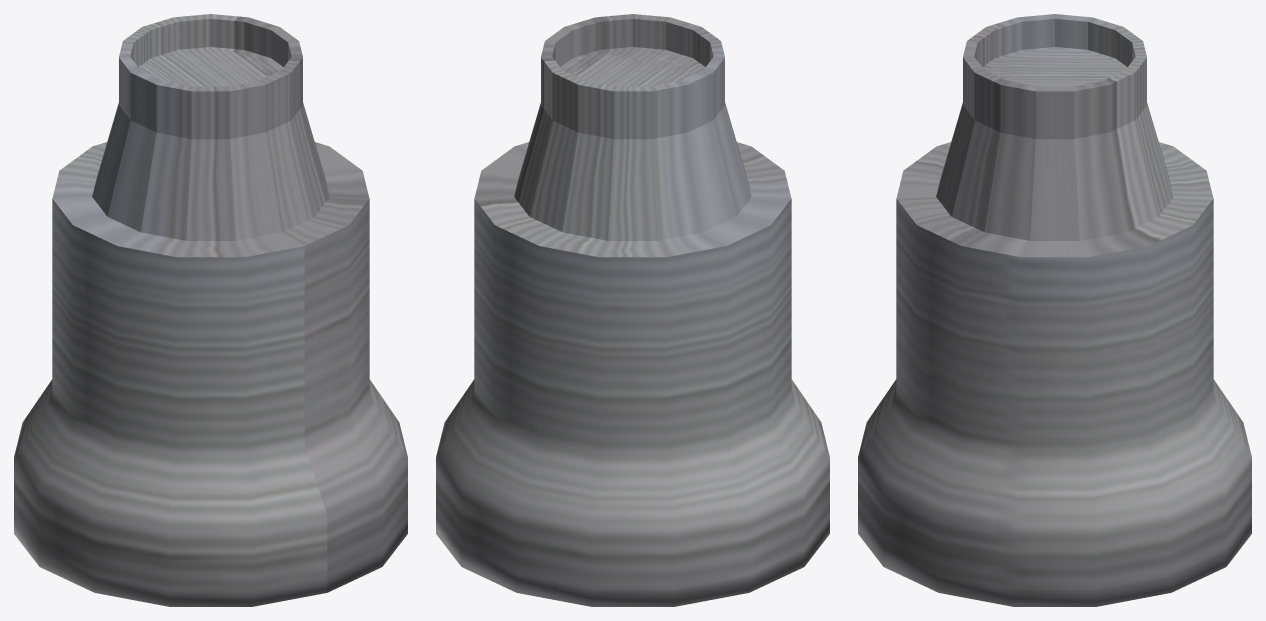
The model's file is turbina1spacepark.obj.
3 renders of one model, left to right at view 1: azimuth 30°, elevation 25°; view 2: azimuth 150°, elevation 25°; view 3: azimuth 270°, elevation 25°, orthographic.
Visible parts, largest first — view 1: Turbina3_Material.005; view 2: Turbina3_Material.005; view 3: Turbina3_Material.005.
Part boxes in pixels (bbox=[...]): Turbina3_Material.005: bbox=[14, 14, 407, 606]; Turbina3_Material.005: bbox=[436, 14, 829, 606]; Turbina3_Material.005: bbox=[858, 14, 1251, 606].
Bounding box in the file's own units: 0.583 × 0.7751 × 0.5862.
